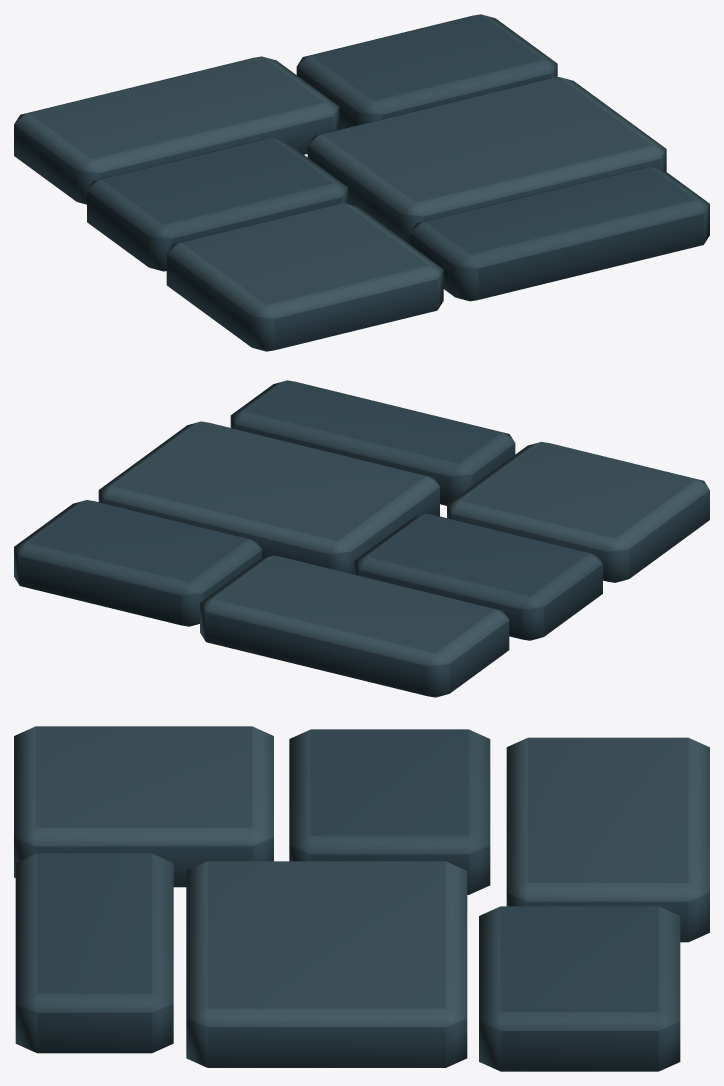
File: stone_path_2.fbx
The picture shows the model from 3 angles, top to bottom: view 1: azimuth 30°, elevation 25°; view 2: azimuth 150°, elevation 25°; view 3: azimuth 270°, elevation 25°; orthographic projection. The views are drawn at different scales.
Parts seen in each view (by area): view 1: stone_path_2; view 2: stone_path_2; view 3: stone_path_2.
Boxes of the visible parts, box(x1,y1,x2,y2) form: stone_path_2: box(14, 14, 709, 351); stone_path_2: box(14, 380, 709, 697); stone_path_2: box(14, 726, 709, 1071).
Bounding box in the file's own units: 200 × 18.28 × 194.
